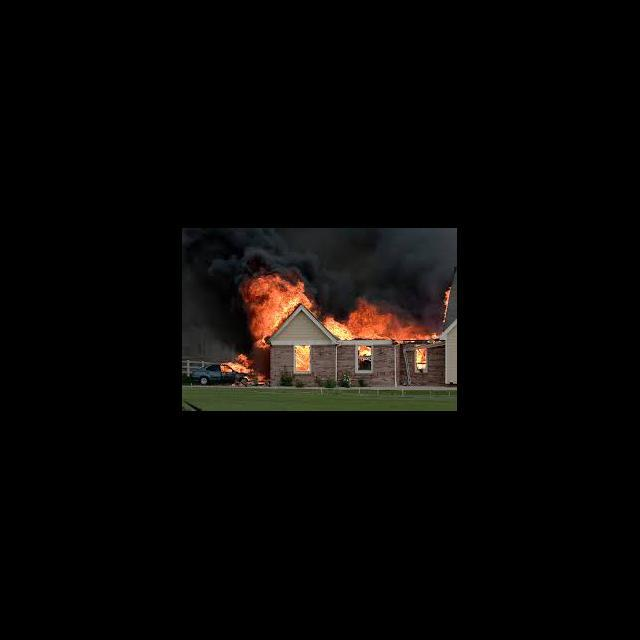Fire: (323, 294, 442, 342), (239, 272, 311, 348), (218, 350, 270, 388), (296, 346, 311, 372), (417, 347, 428, 365), (358, 346, 372, 358)
